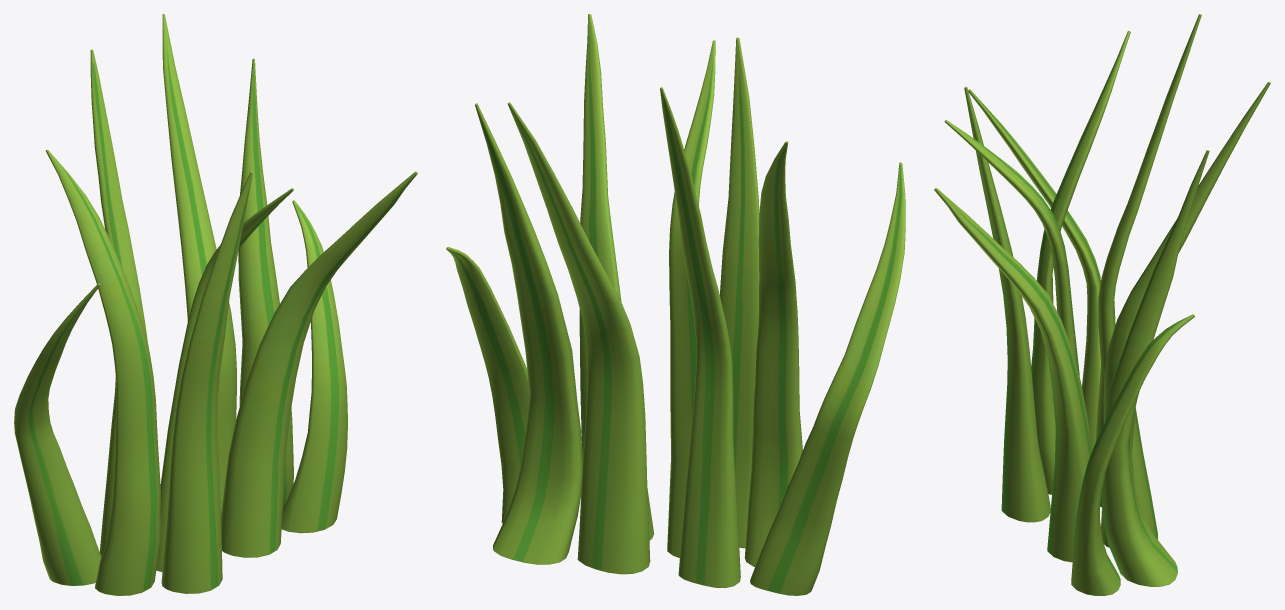
File: plant3.fbx
3 renders of one model, left to right at view 1: azimuth 30°, elevation 25°; view 2: azimuth 150°, elevation 25°; view 3: azimuth 270°, elevation 25°, orthographic. The views are drawn at different scales.
Parts seen in each view (by area): view 1: node_id30; view 2: node_id30; view 3: node_id30.
Boxes of the visible parts, bbox=[...] form: node_id30: bbox=[14, 14, 417, 595]; node_id30: bbox=[446, 14, 905, 595]; node_id30: bbox=[934, 14, 1270, 595].
Size of the model in its own units: 0.2715 by 0.3584 by 0.2248.
Materials: 1 (1 with a texture image).
